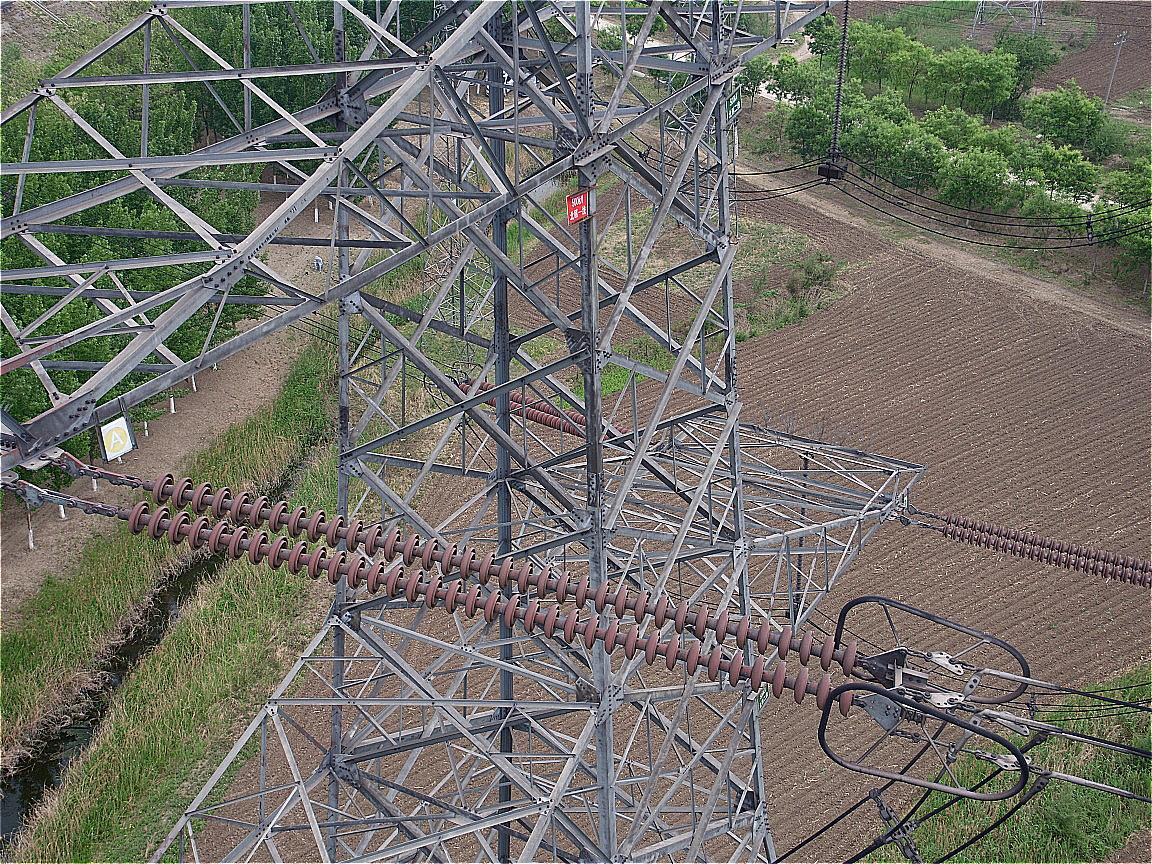insultor1: (128, 471, 859, 718)
insultor2: (940, 511, 1150, 586)
